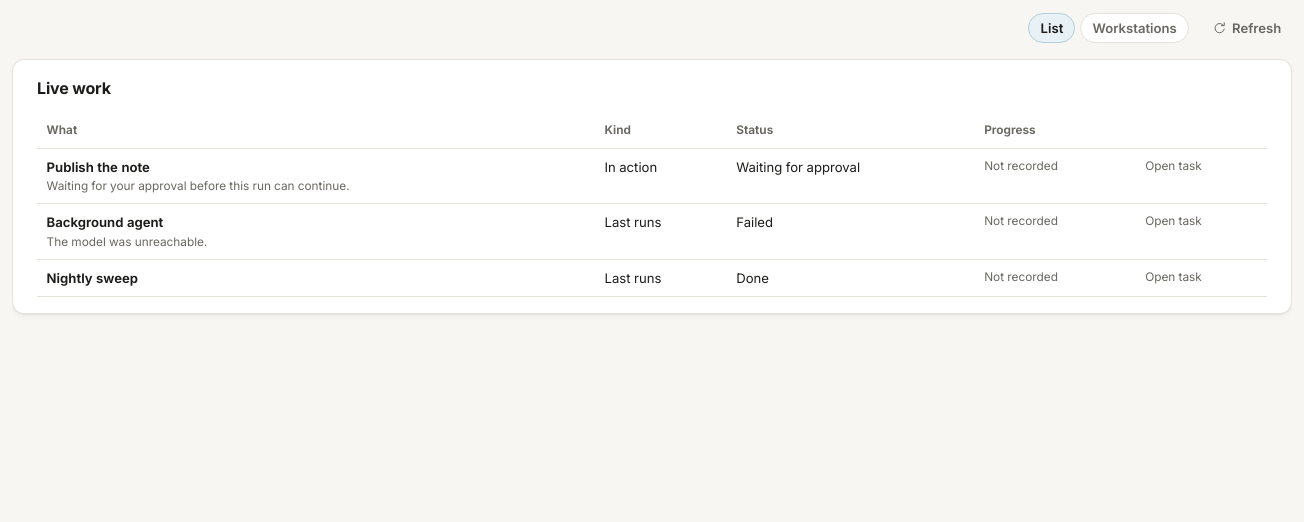
Scenario: WorkInActionView › says how the last runs ended and keeps approval-blocked work in the active list
The image size is (1304, 522).
Check: the text "Publish the note" is shown, box [47,159,150,175]
Click the button "Workstations": [1135, 28] box [1080,13,1189,43]
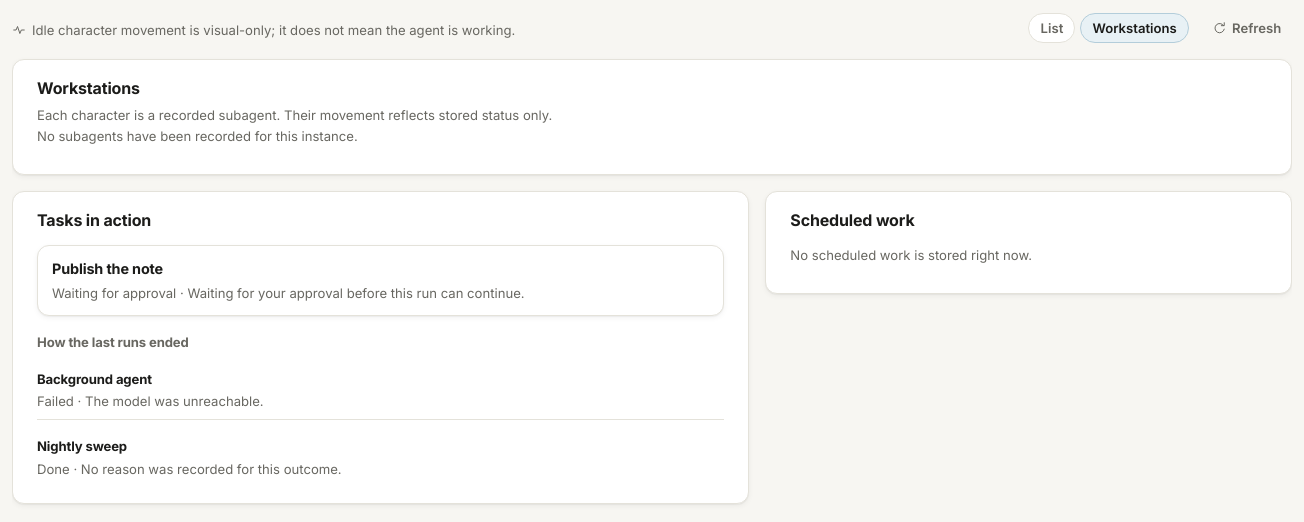
Check: the text "Waiting for approval · Waiting for your approval" is shown, box [52,285,525,301]
Check: the heading "How the last runs ended" is shown, box [37,334,189,350]
Check: the text "Failed · The model was unreachable." is shown, box [37,393,264,409]
